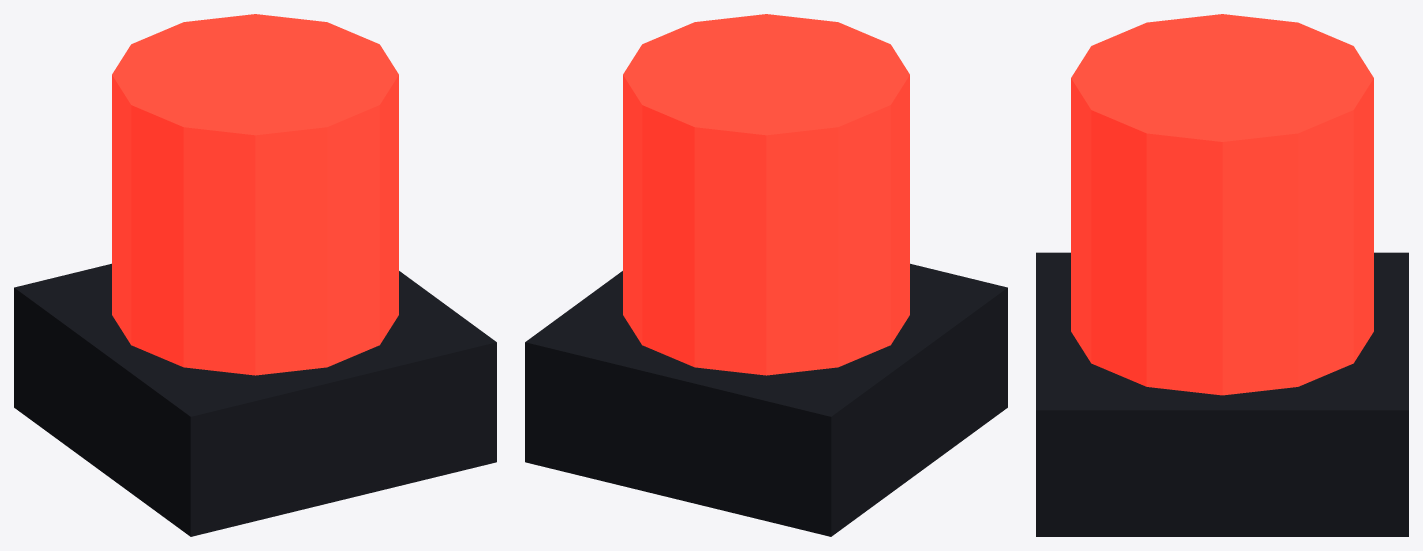
Rendered from light.glb.
The picture shows the model from 3 angles, left to right: view 1: azimuth 30°, elevation 25°; view 2: azimuth 150°, elevation 25°; view 3: azimuth 270°, elevation 25°; orthographic projection. The views are drawn at different scales.
Parts seen in each view (by area): view 1: ice_light_body; view 2: ice_light_body; view 3: ice_light_body.
Boxes of the visible parts, bbox=[...] form: ice_light_body: bbox=[14, 14, 496, 536]; ice_light_body: bbox=[525, 14, 1007, 536]; ice_light_body: bbox=[1036, 14, 1408, 536].
Size of the model in its own units: 0.32 by 0.36 by 0.32.
Materials: 1 (1 with a texture image).
